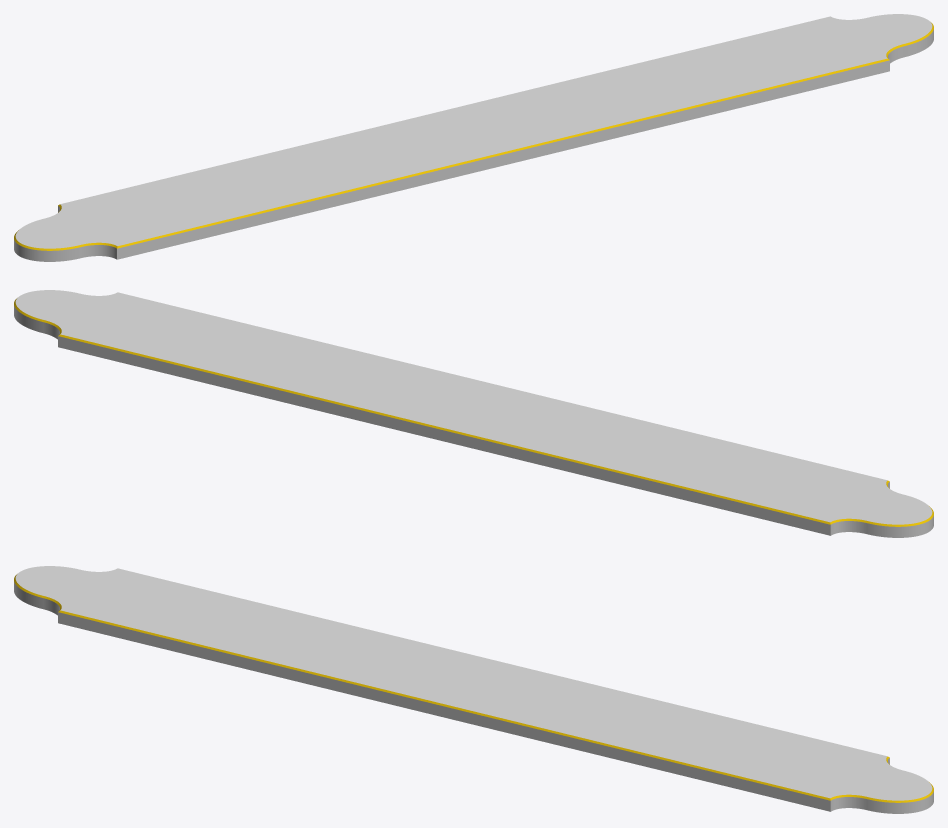
File: The Gaslight.glb
3 renders of one model, top to bottom at view 1: azimuth 30°, elevation 25°; view 2: azimuth 150°, elevation 25°; view 3: azimuth 330°, elevation 25°, orthographic.
Visible parts, largest first — view 1: 6, BORDERS_curve_.017; view 2: 6, BORDERS_curve_.017; view 3: 6, BORDERS_curve_.017.
Part boxes in pixels (left/top/right/bottom): 6: left=14, top=14, right=933, bottom=261; BORDERS_curve_.017: left=14, top=22, right=933, bottom=250; 6: left=14, top=290, right=933, bottom=537; BORDERS_curve_.017: left=14, top=298, right=933, bottom=526; 6: left=14, top=566, right=933, bottom=813; BORDERS_curve_.017: left=14, top=574, right=933, bottom=802.
Size of the model in its own units: 40 by 0.5281 by 4.5.
